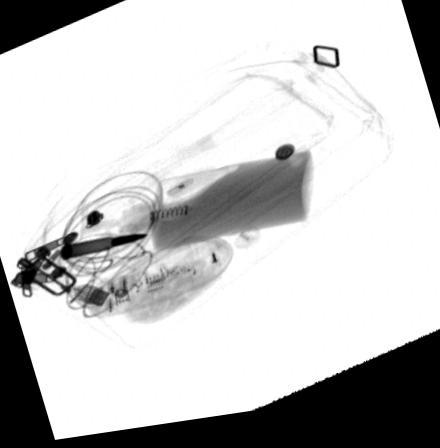Bullet: (58, 237, 153, 262)
